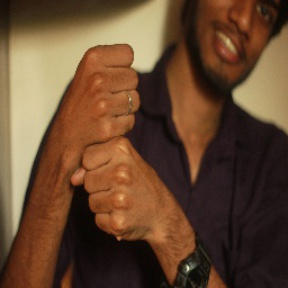G: (48, 38, 170, 253)
